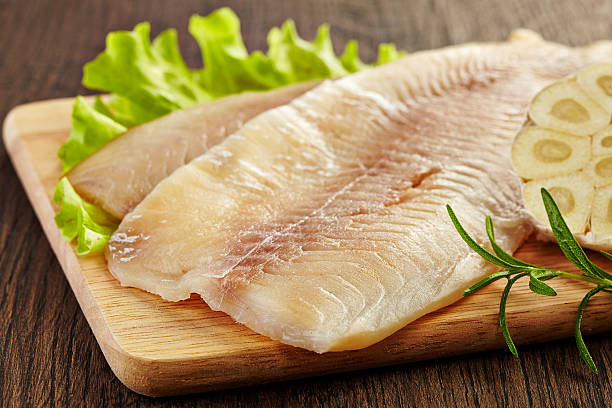bream-fish: (104, 40, 612, 351)
